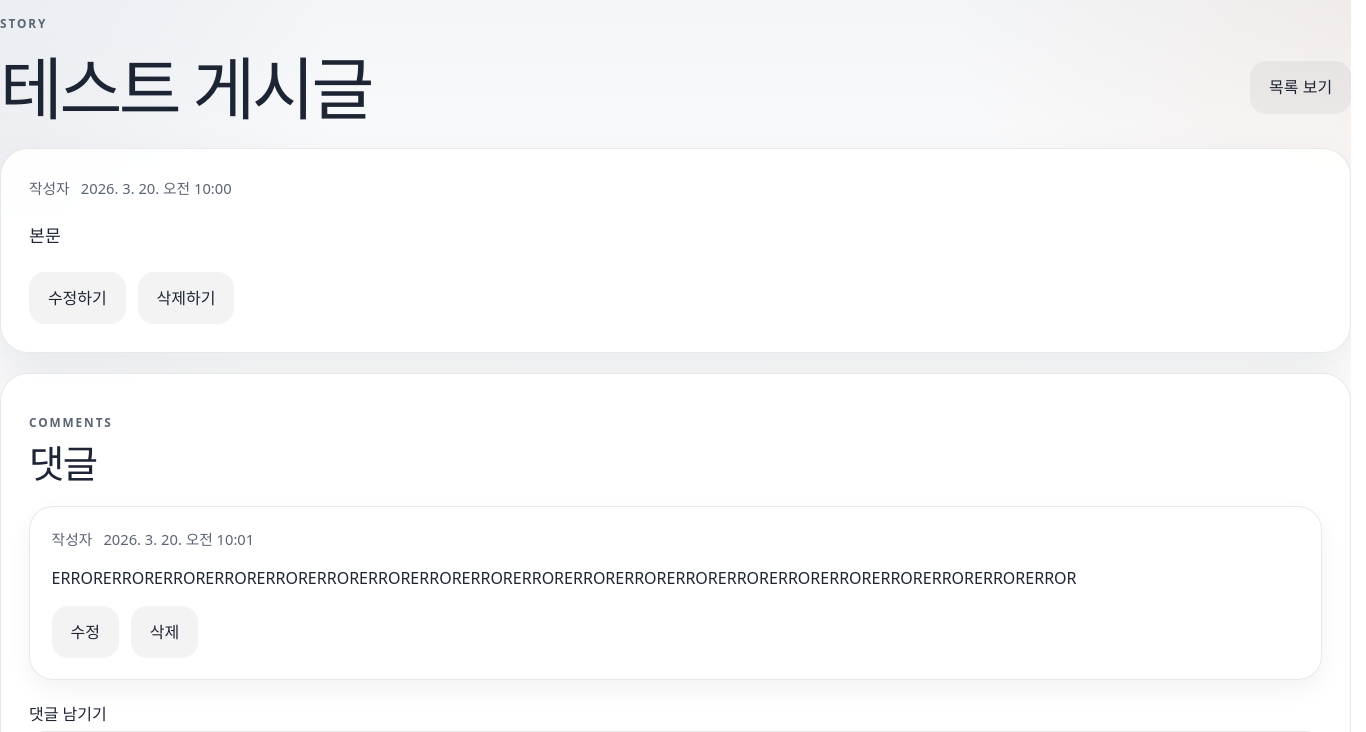
Test: CommunityDetailPage › truncates long delete preview text inside the modal
What coordinates should you click on to do the following:
click the button "삭제"
I would click on:
 (164, 632)
Its box is [131,606,198,658].
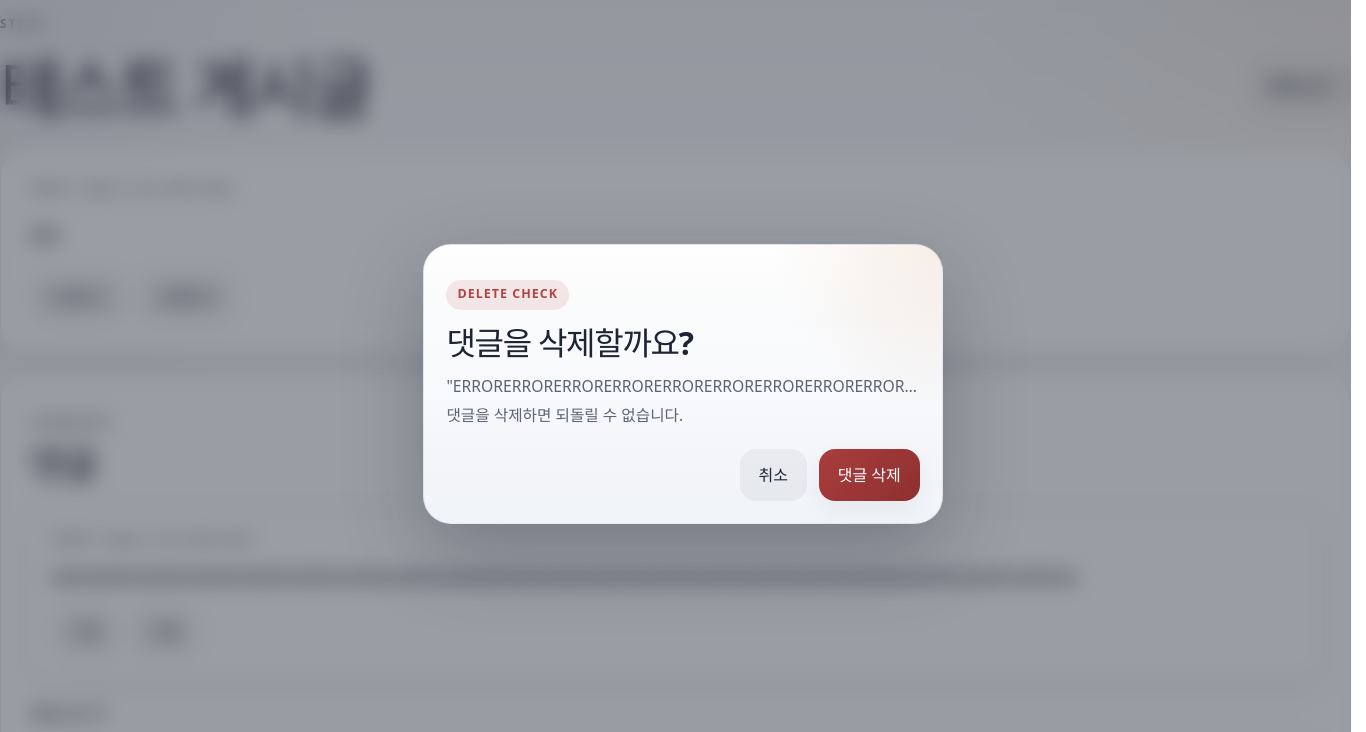
Expected: the text "댓글을 삭제하면 되돌릴 수 없습니다." is shown, [446,404,683,426]
